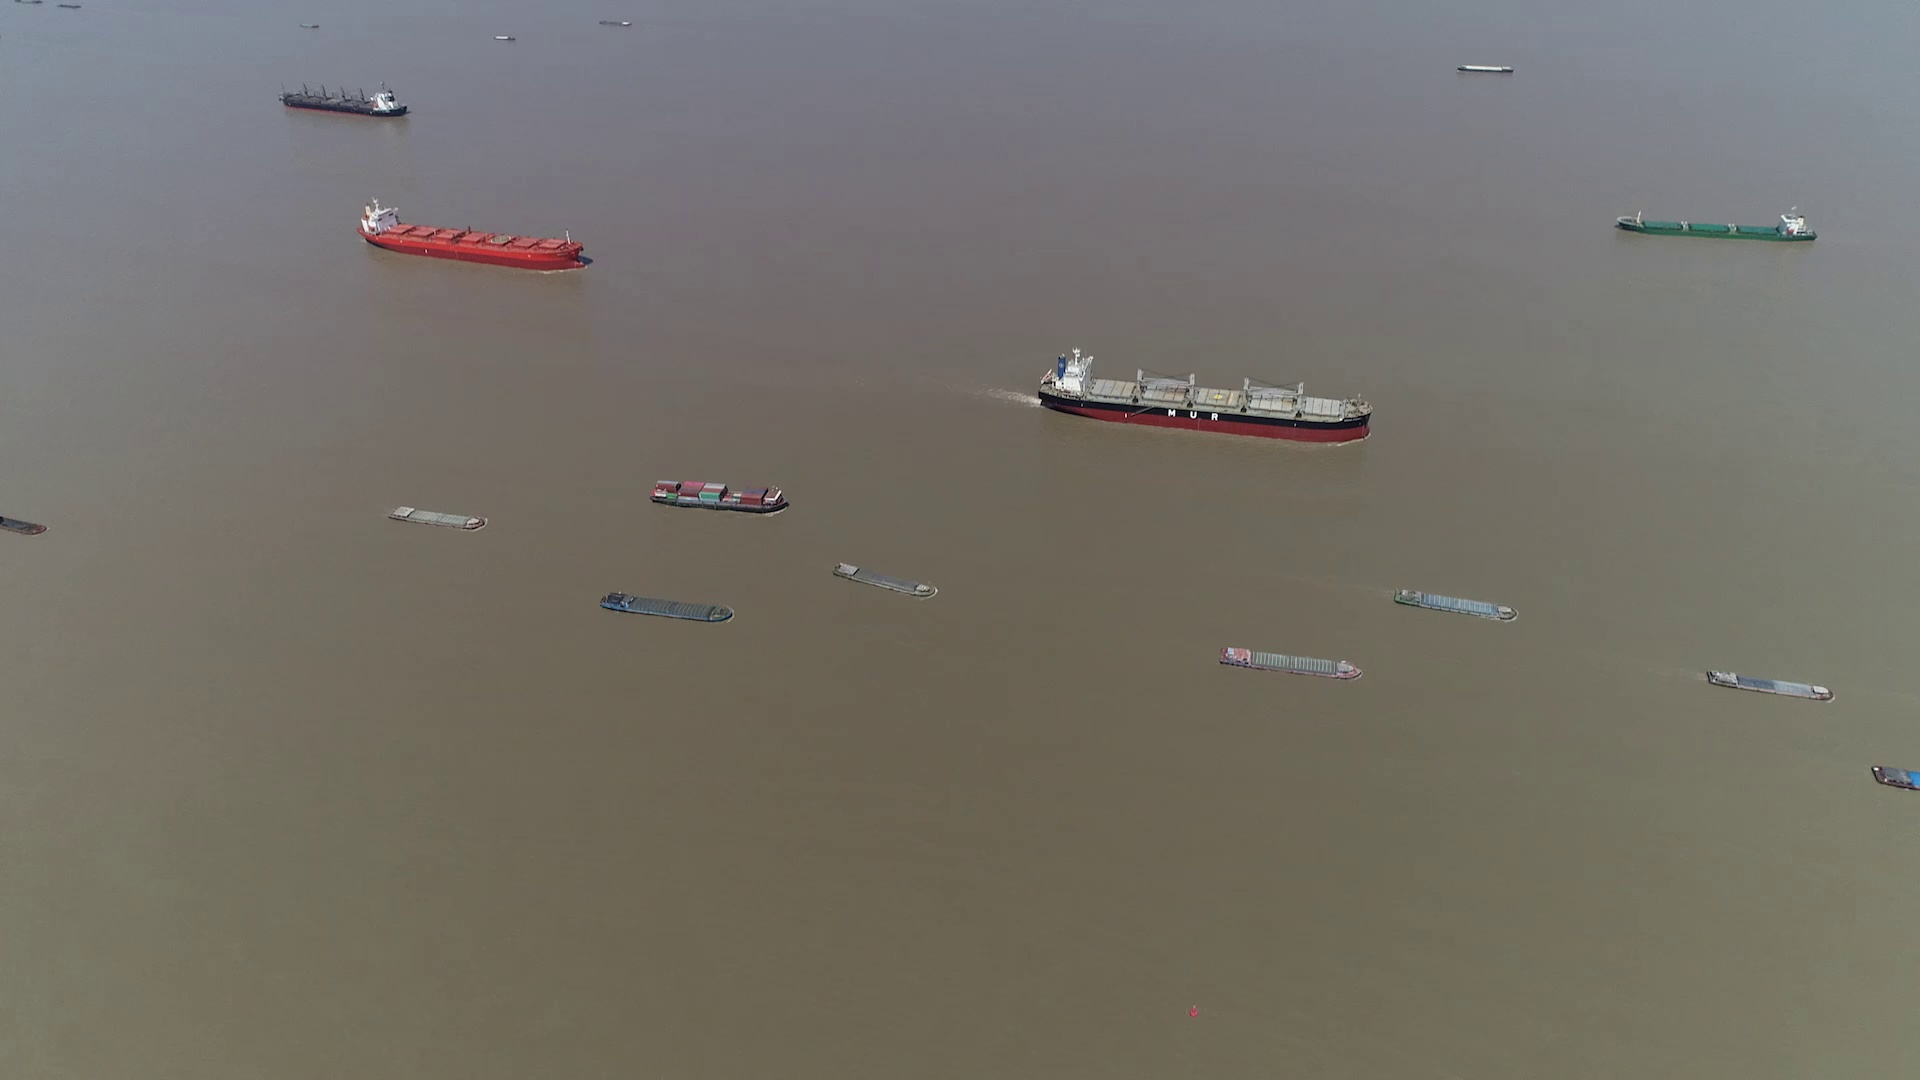ship: (1038, 352, 1371, 443), (357, 200, 585, 270), (1615, 206, 1816, 240), (650, 479, 789, 514), (1218, 644, 1361, 678), (597, 589, 737, 624), (281, 83, 410, 117), (1395, 587, 1518, 620), (1702, 667, 1833, 698), (833, 563, 935, 597), (388, 505, 484, 529), (1870, 764, 1919, 793), (0, 508, 47, 537), (1457, 65, 1513, 74), (601, 18, 632, 26)
